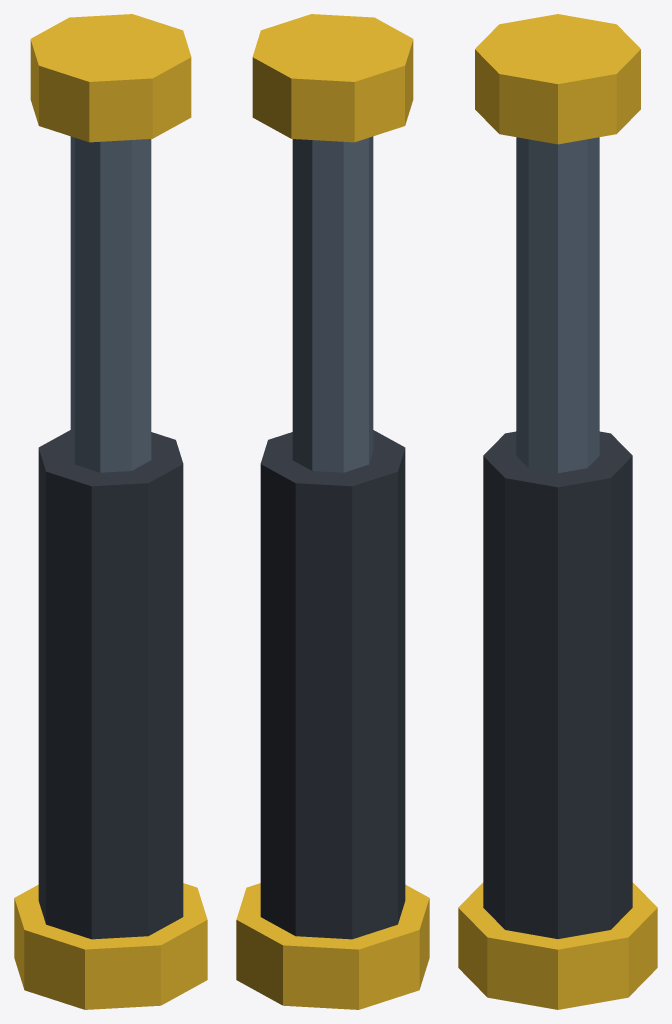
File: robot_piston.glb
3 views of the same model, side by side, from view 1: azimuth 30°, elevation 25°; view 2: azimuth 150°, elevation 25°; view 3: azimuth 270°, elevation 25° (orthographic).
Visible parts, largest first — view 1: robot_piston_steelDark, robot_piston_yellow, robot_piston_steel; view 2: robot_piston_steelDark, robot_piston_yellow, robot_piston_steel; view 3: robot_piston_steelDark, robot_piston_yellow, robot_piston_steel.
Boxes of the visible parts, box(x1,y1,x2,y2) form: robot_piston_steelDark: box(38, 430, 183, 939); robot_piston_yellow: box(14, 14, 207, 1009); robot_piston_steel: box(70, 136, 151, 472); robot_piston_steelDark: box(260, 430, 405, 939); robot_piston_yellow: box(236, 14, 429, 1009); robot_piston_steel: box(292, 136, 373, 472); robot_piston_steelDark: box(483, 431, 632, 938); robot_piston_yellow: box(458, 14, 657, 1009); robot_piston_steel: box(516, 137, 599, 473).
Bounding box in the file's own units: 1.2 × 6.1 × 1.2.
